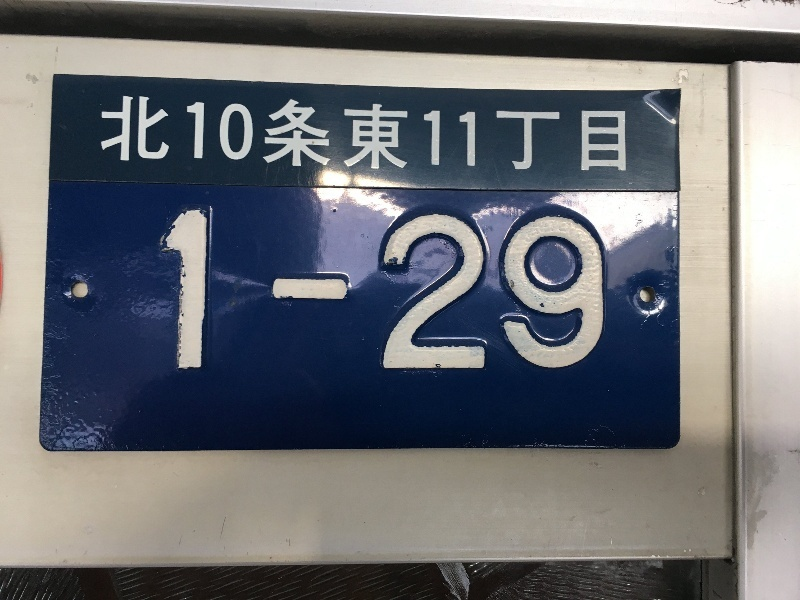text: (177, 208, 192, 373), (193, 208, 208, 373), (209, 208, 224, 373), (225, 208, 240, 373), (241, 208, 256, 373), (257, 208, 272, 373), (273, 208, 288, 373), (289, 208, 304, 373), (305, 208, 320, 373), (321, 208, 336, 373), (337, 208, 352, 373), (353, 208, 368, 373), (369, 208, 384, 373), (385, 208, 400, 373), (401, 208, 416, 373), (417, 208, 432, 373), (433, 208, 448, 373), (449, 208, 464, 373), (465, 208, 480, 373), (481, 208, 496, 373), (497, 208, 512, 373), (513, 208, 528, 373), (529, 208, 544, 373), (545, 208, 560, 373), (561, 208, 576, 373), (577, 208, 592, 373), (593, 208, 608, 373), (163, 208, 176, 373), (113, 93, 128, 179), (129, 93, 144, 179), (145, 93, 160, 179), (161, 93, 176, 179), (177, 93, 192, 179), (193, 93, 208, 179), (209, 93, 224, 179), (225, 93, 240, 179), (241, 93, 256, 179), (257, 93, 272, 179), (273, 93, 288, 179), (289, 93, 304, 179), (305, 93, 320, 179), (321, 93, 336, 179), (337, 93, 352, 179), (353, 93, 368, 179), (369, 93, 384, 179), (385, 93, 400, 179), (401, 93, 416, 179), (417, 93, 432, 179), (433, 93, 448, 179), (449, 93, 464, 179), (465, 93, 480, 179), (481, 93, 496, 179), (497, 93, 512, 179), (513, 93, 528, 179), (529, 93, 544, 179), (545, 93, 560, 179), (561, 93, 576, 179), (577, 93, 592, 179), (593, 93, 608, 179), (609, 93, 624, 179), (101, 93, 112, 179), (625, 93, 628, 179)
